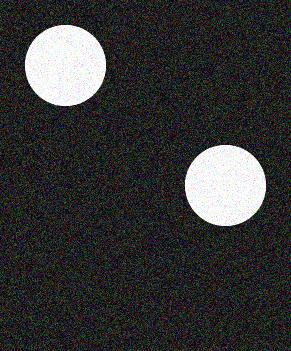E: (17, 15, 271, 337)
